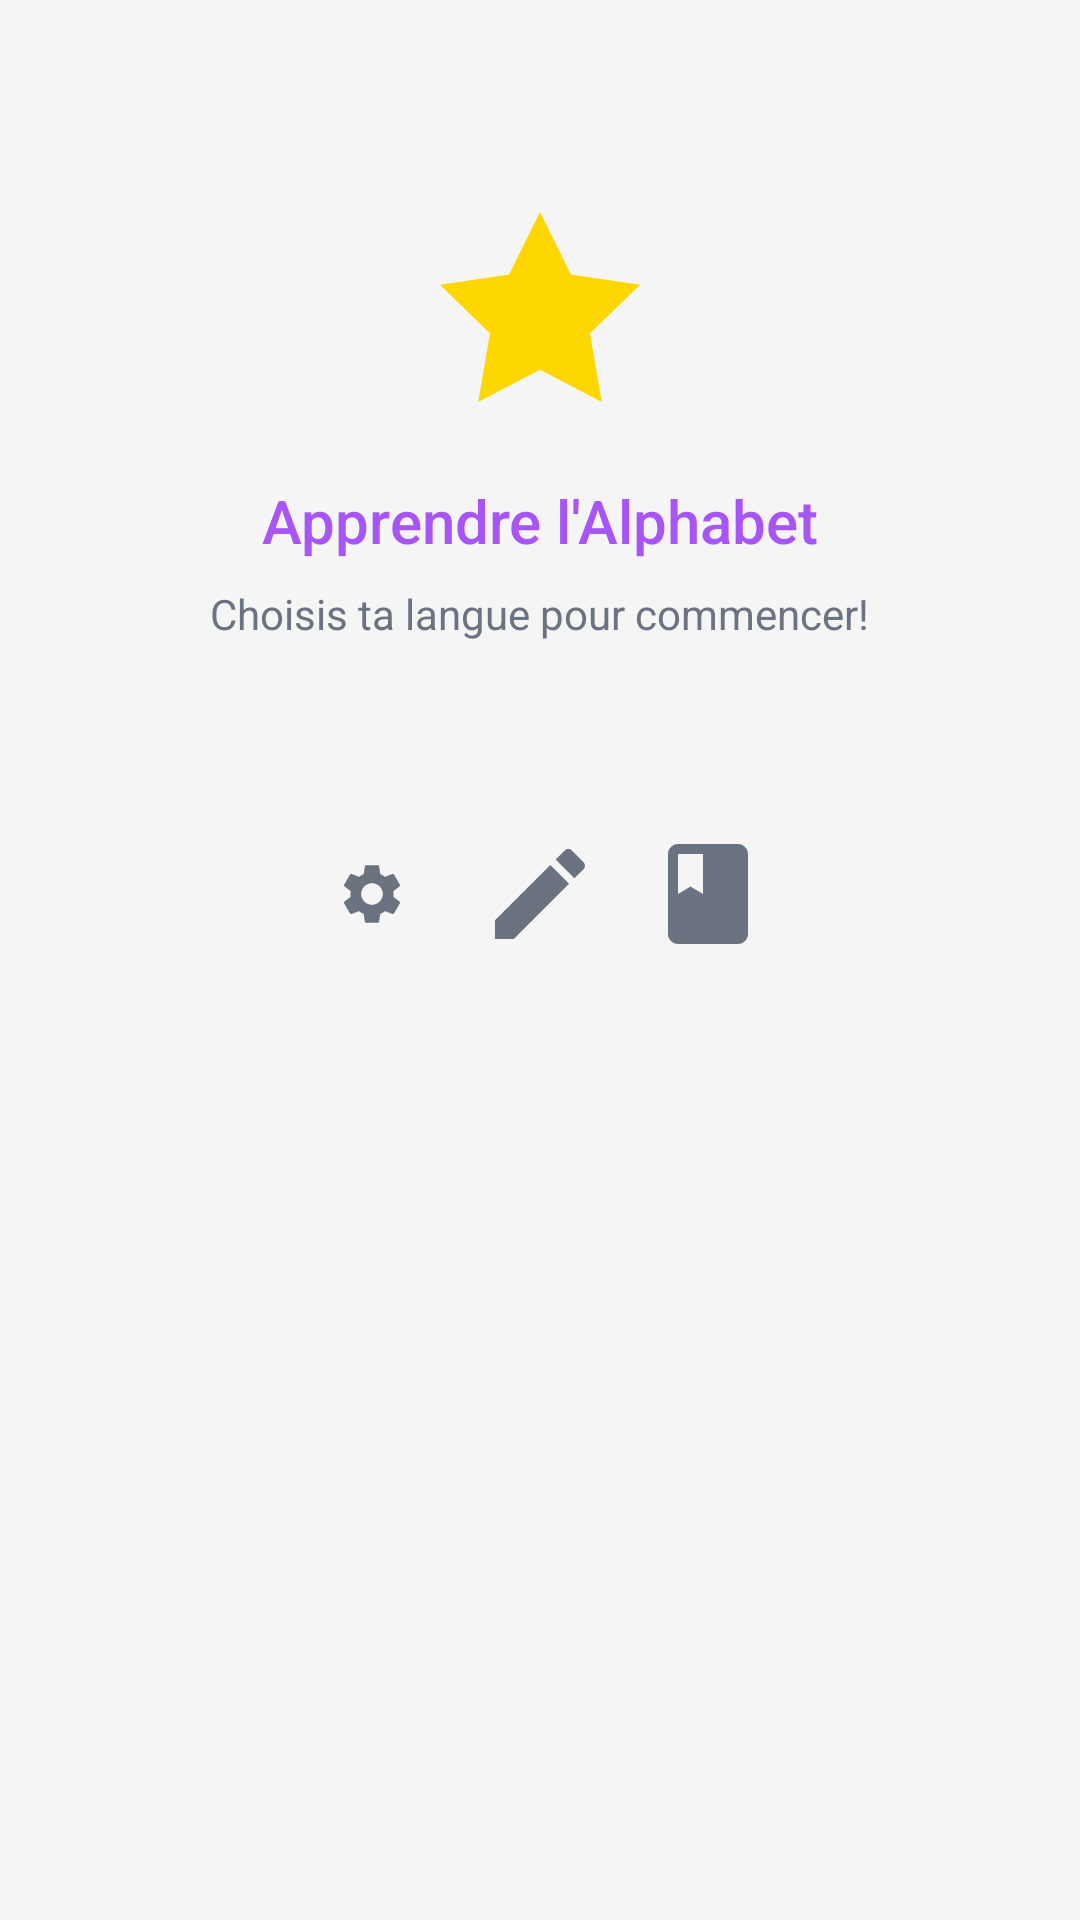

Screen size 1080x1920. Icon name, then its center in pixels as [x,y]:
Book: [708,894]
Pencil: [540,894]
Settings: [372,894]
